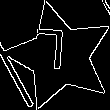L_S: (42, 30, 77, 82)
